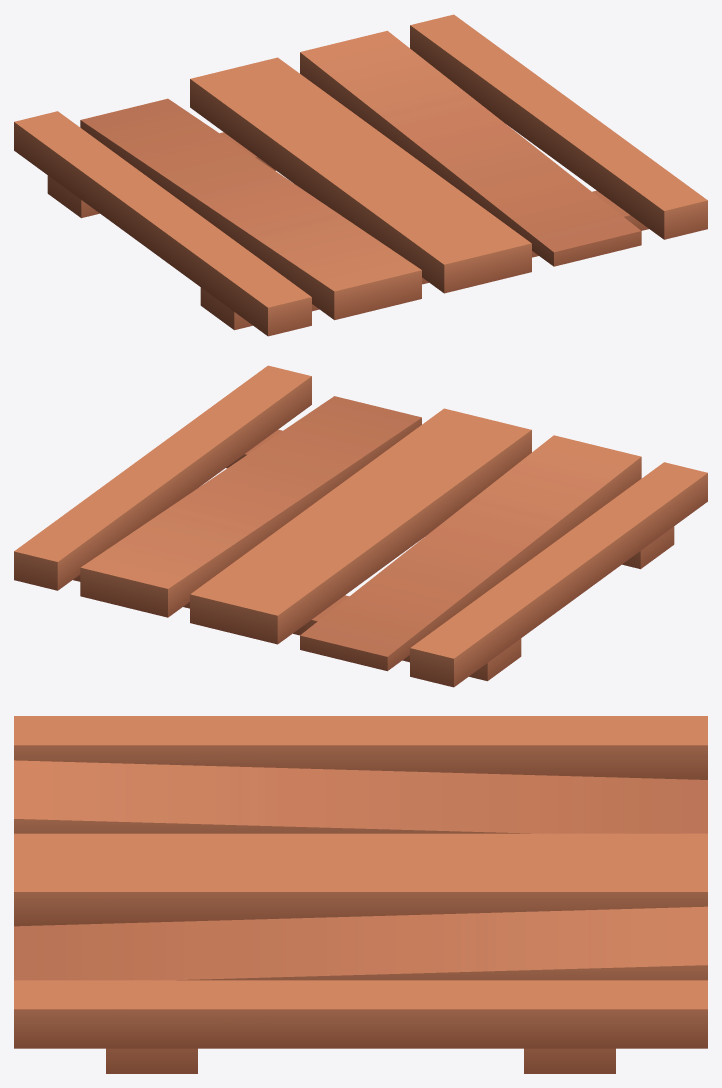
The model's file is kenney-survival-floor-old.glb.
3 views of the same model, one above another, from view 1: azimuth 30°, elevation 25°; view 2: azimuth 150°, elevation 25°; view 3: azimuth 270°, elevation 25° (orthographic). The views are drawn at different scales.
Parts seen in each view (by area): view 1: floor-old; view 2: floor-old; view 3: floor-old.
Boxes of the visible parts, x1=… form: floor-old: x1=14, y1=14, x2=707, y2=336; floor-old: x1=14, y1=365, x2=707, y2=687; floor-old: x1=14, y1=716, x2=707, y2=1073.
Size of the model in its own units: 0.5 by 0.0512 by 0.5.
Materials: 1 (1 with a texture image).
